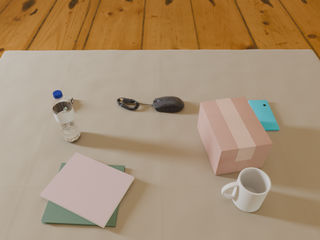book: (40, 152, 134, 228), (41, 163, 125, 227)
bottle: (52, 90, 81, 142)
box: (197, 97, 273, 175)
cup: (222, 168, 271, 212)
mouse: (151, 96, 184, 112)
phone: (248, 100, 279, 131)
